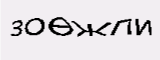А: (60, 19, 71, 43)
Г: (52, 20, 63, 41)
Ж: (37, 19, 56, 39)
С: (67, 14, 88, 44)
Ю: (85, 13, 123, 47)
